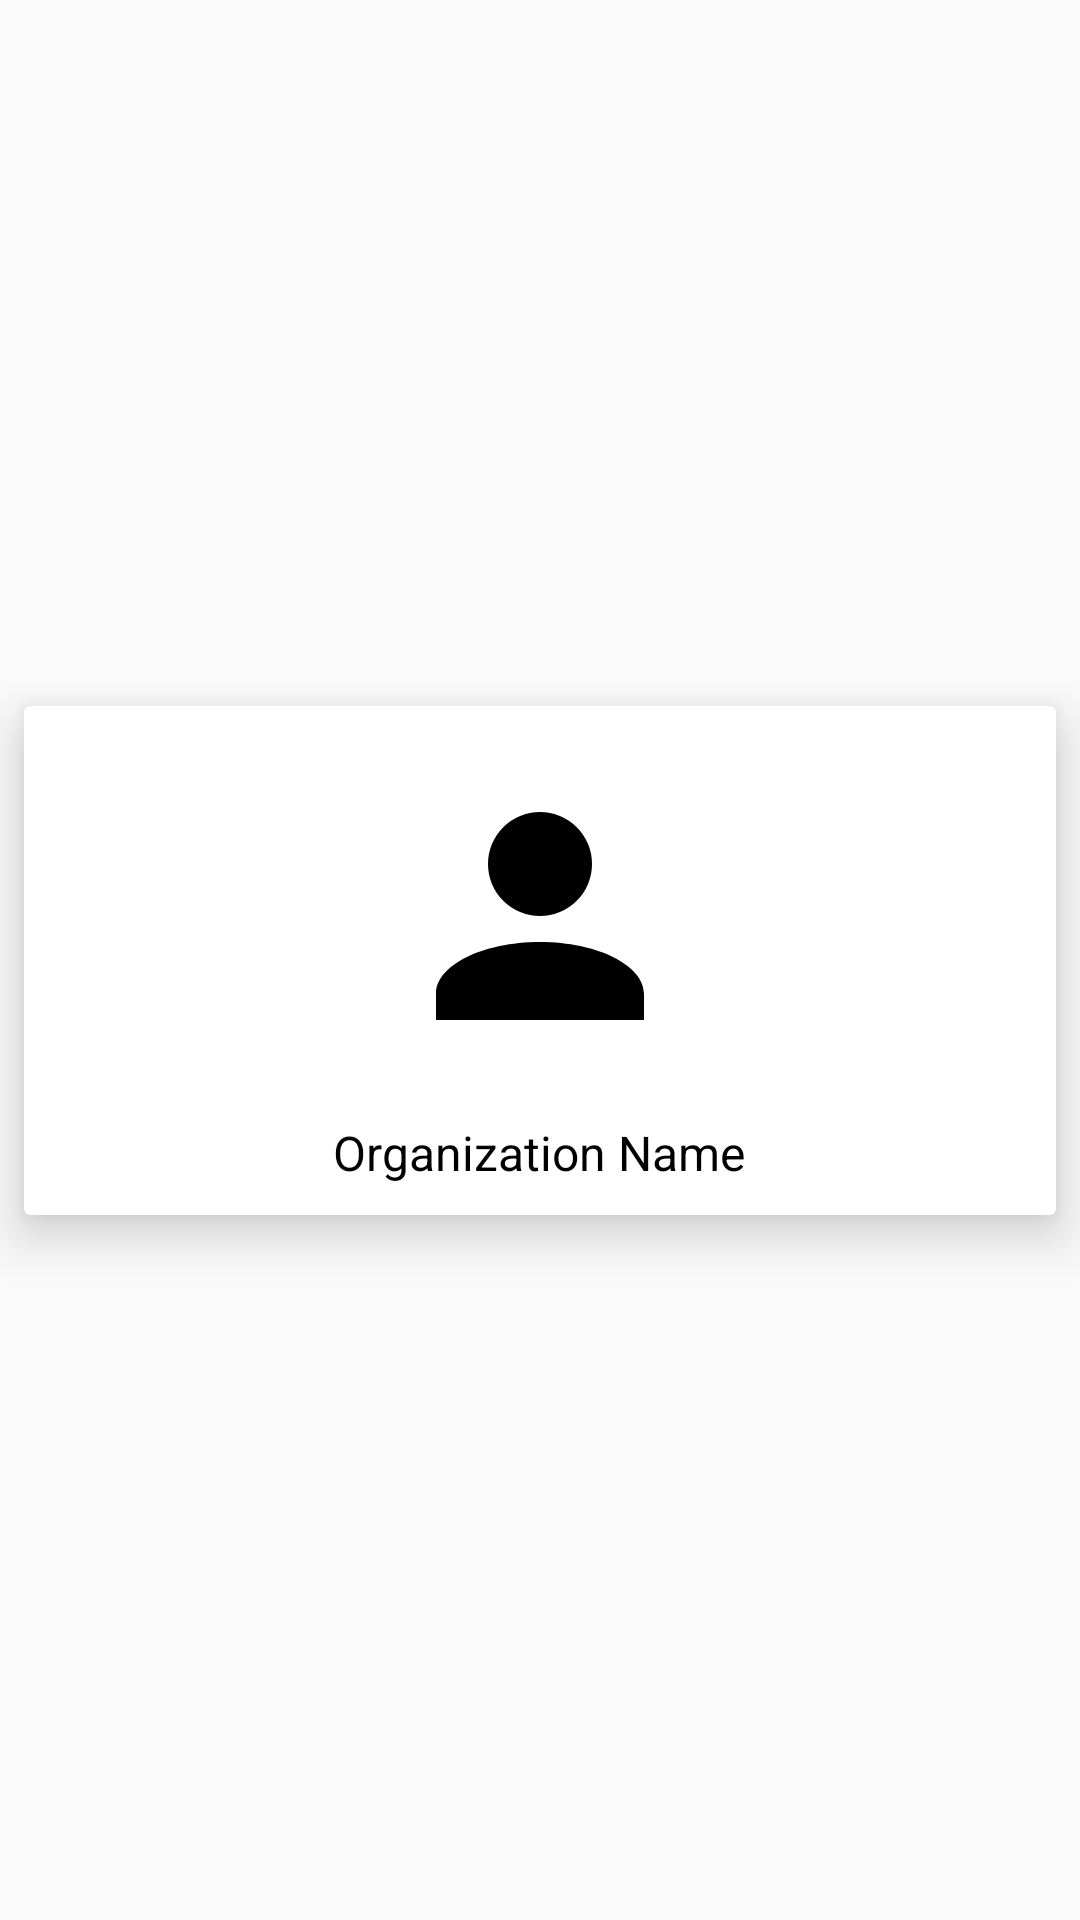

Where to tap for icons on this 1080 x 1920 app screen, as [x,y]:
account: [540,916]
